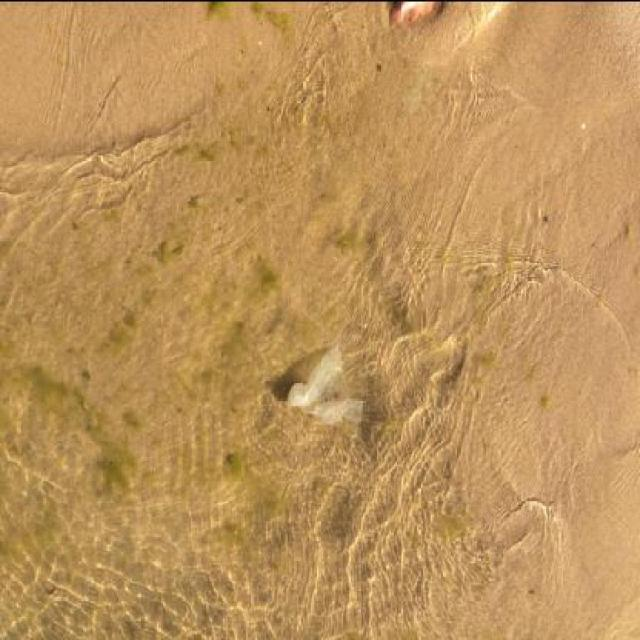plastic: (287, 342, 364, 431)
